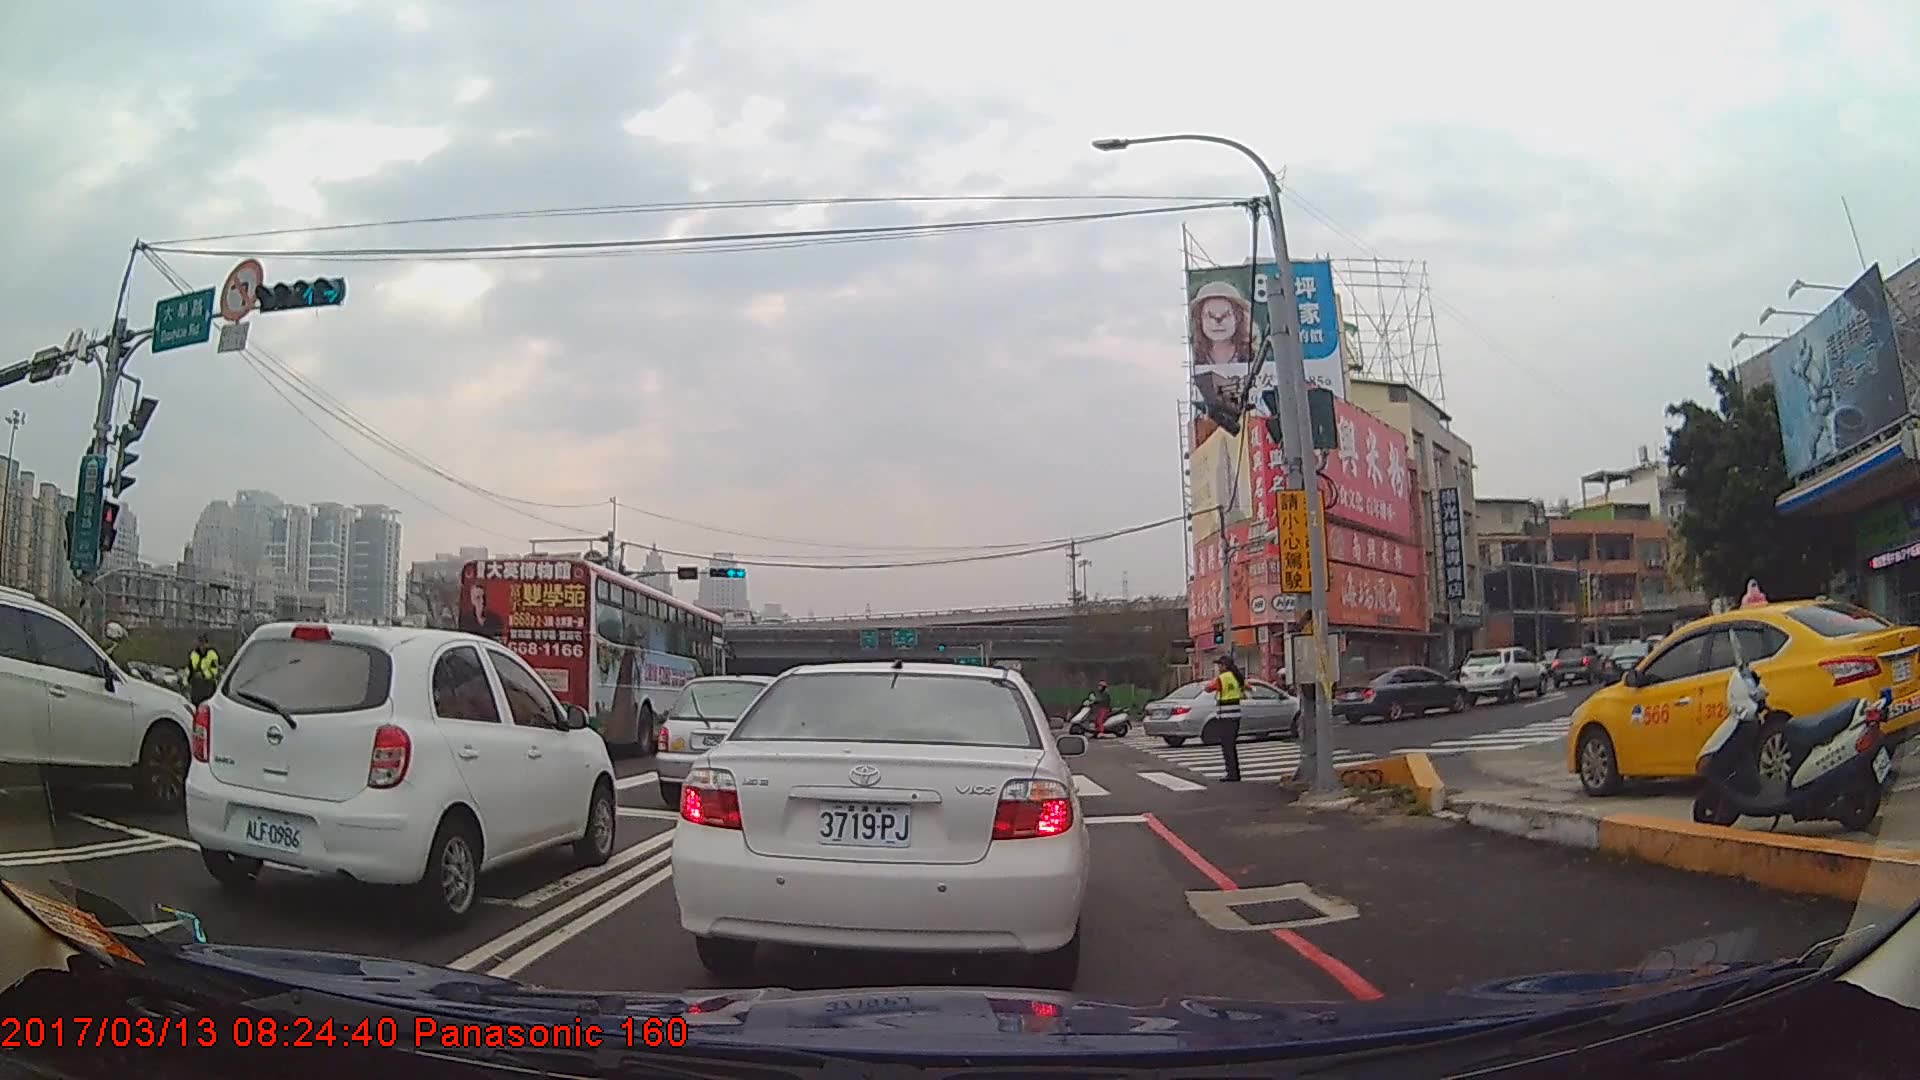pedestrian: (1205, 656, 1247, 785), (183, 636, 223, 746)
rider: (90, 621, 151, 733), (1072, 682, 1133, 738)
vehicle: (668, 658, 1088, 977), (184, 621, 615, 922), (1566, 598, 1920, 798), (452, 557, 730, 757), (0, 587, 201, 816), (652, 673, 830, 806), (1138, 675, 1314, 747), (1332, 663, 1467, 723), (1458, 645, 1546, 707), (1599, 638, 1664, 691), (1552, 642, 1604, 688)
